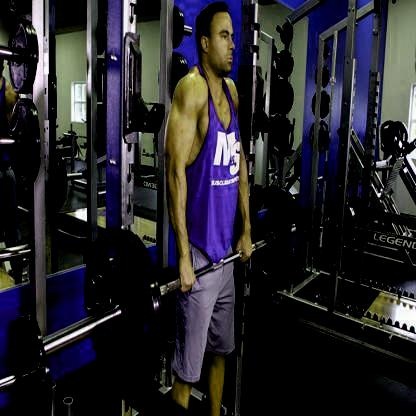Barbell: (39, 336, 52, 366)
